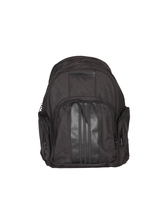bag: (31, 54, 139, 171)
